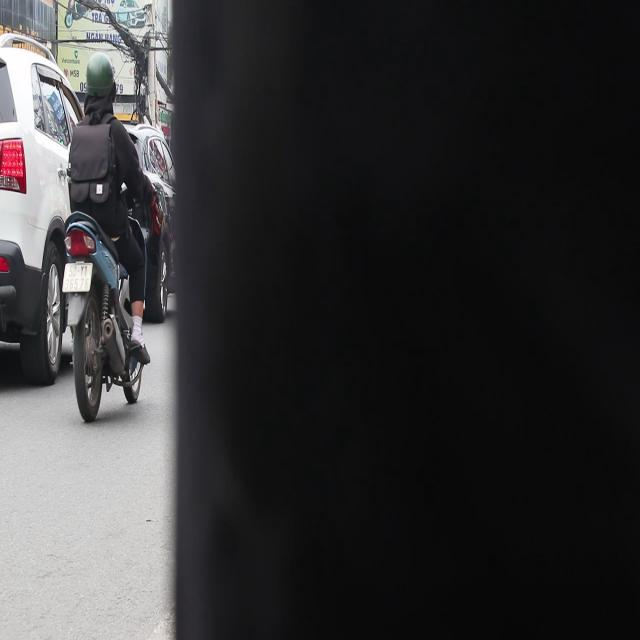car: (1, 23, 90, 399)
motorbike: (54, 199, 146, 421)
